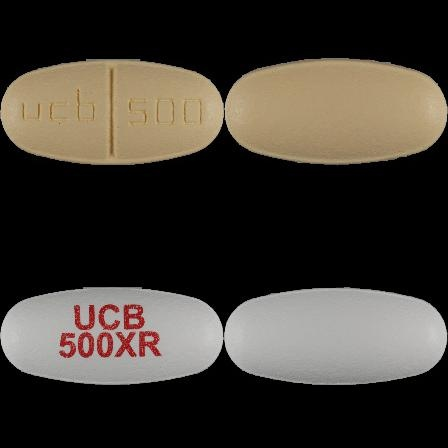65084-458: (0, 0, 224, 224)
